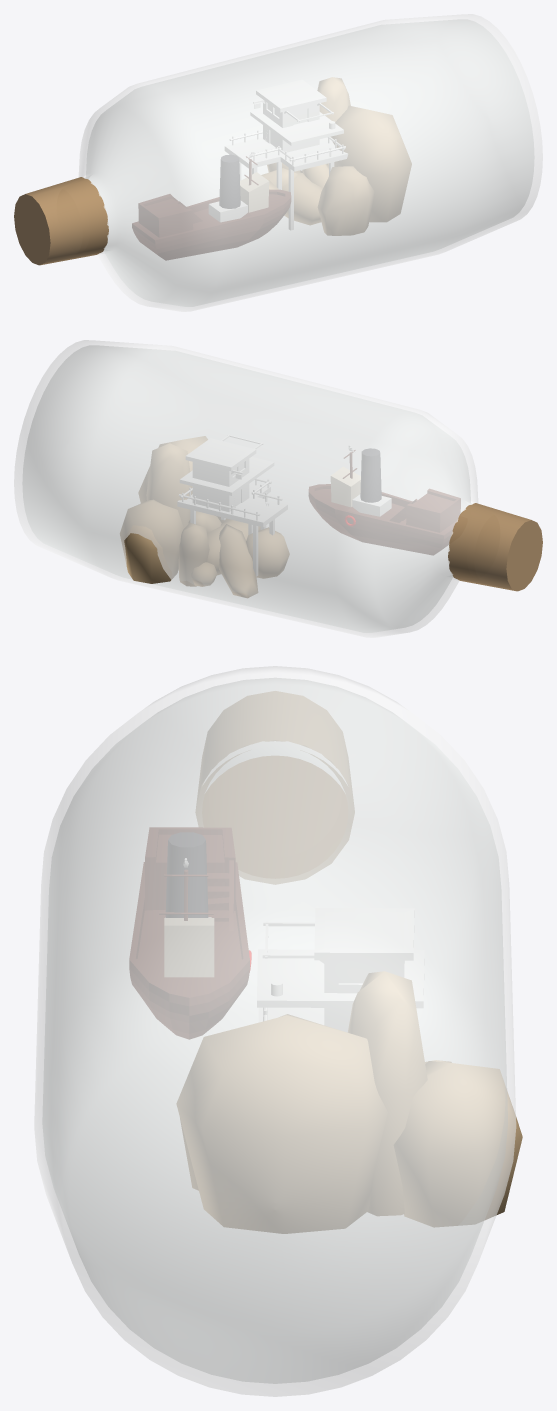
Rendered from Scene.baked.glb.
The picture shows the model from 3 angles, top to bottom: view 1: azimuth 30°, elevation 25°; view 2: azimuth 150°, elevation 25°; view 3: azimuth 270°, elevation 25°; orthographic projection. The views are drawn at different scales.
Parts seen in each view (by area): view 1: Bottle, Ship_Body, pCube31, pCube1, pCube32, pCube2, pCube42, Funnel, pCube30, Cabin, Funnel_step, pCylinder29 (+1 smaller); view 2: Bottle, Ship_Body, pCube29, pCube1, pCube30, pCube48, pCube2, pCube41, pCube33, Funnel, Cabin, pCube42 (+4 smaller); view 3: Bottle, pCube31, pCube29, Ship_Body, pCube1, pCube30, Funnel, Cabin.
Boxes of the visible parts, x1,y1,x2,y2 form: Bottle: [14, 14, 542, 311]; Ship_Body: [132, 156, 290, 260]; pCube31: [328, 106, 411, 221]; pCube1: [250, 80, 343, 151]; pCube32: [318, 166, 373, 235]; pCube2: [225, 137, 347, 171]; pCube42: [282, 172, 321, 224]; Funnel: [219, 155, 240, 208]; pCube30: [317, 77, 350, 164]; Cabin: [240, 172, 268, 212]; Funnel_step: [209, 201, 247, 221]; pCylinder29: [230, 130, 345, 165]; Bottle: [14, 340, 542, 637]; Ship_Body: [309, 450, 460, 555]; pCube29: [120, 500, 183, 583]; pCube1: [180, 438, 273, 511]; pCube30: [146, 443, 192, 527]; pCube48: [219, 524, 257, 597]; pCube2: [177, 482, 287, 526]; pCube41: [246, 527, 289, 578]; pCube33: [179, 523, 209, 586]; Funnel: [360, 448, 381, 502]; Cabin: [331, 467, 360, 506]; pCube42: [207, 520, 247, 574]; Bottle: [34, 666, 516, 1396]; pCube31: [176, 1014, 387, 1233]; pCube29: [394, 1061, 522, 1227]; Ship_Body: [129, 827, 249, 1039]; pCube1: [257, 908, 424, 1031]; pCube30: [348, 971, 427, 1215]; Funnel: [166, 832, 207, 917]; Cabin: [164, 918, 213, 976].
Bounding box in the file's own units: 9.01 × 4.06 × 4.11.
